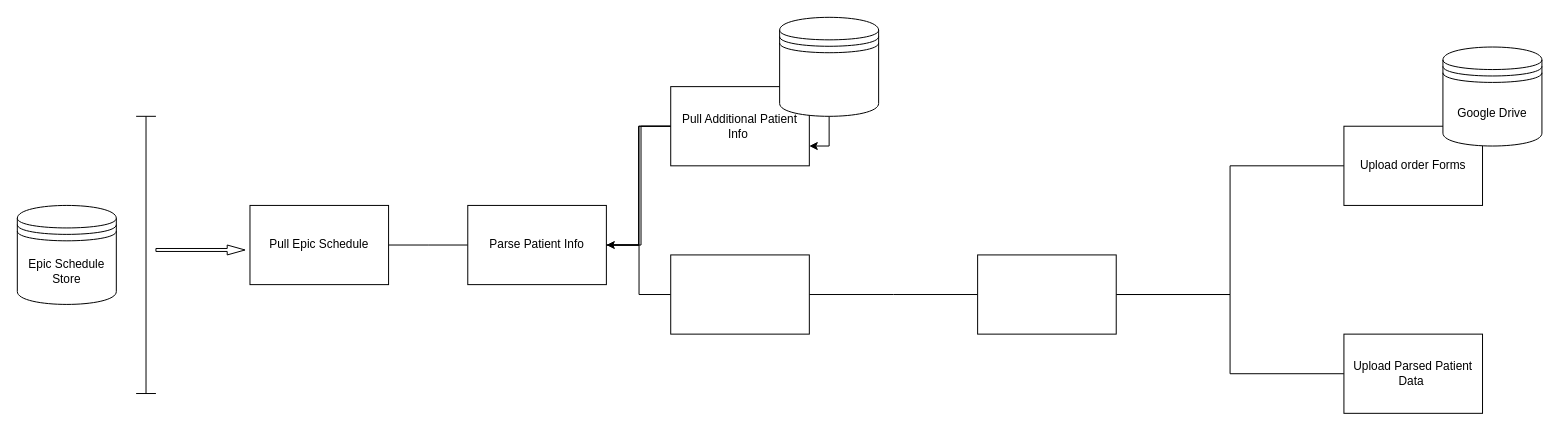
Some shapes in this 1559 by 431 pixel diagram are drawn without their labels. The centre of each missing label's shape, as x and y in pixels:
"Create Asana Tasks Per Exam" goes at pixel 739 294.
"Create Order Forms" goes at pixel 1046 294.
"MSBase" goes at pixel 829 66.
